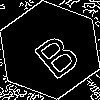B: (25, 25, 83, 81)
